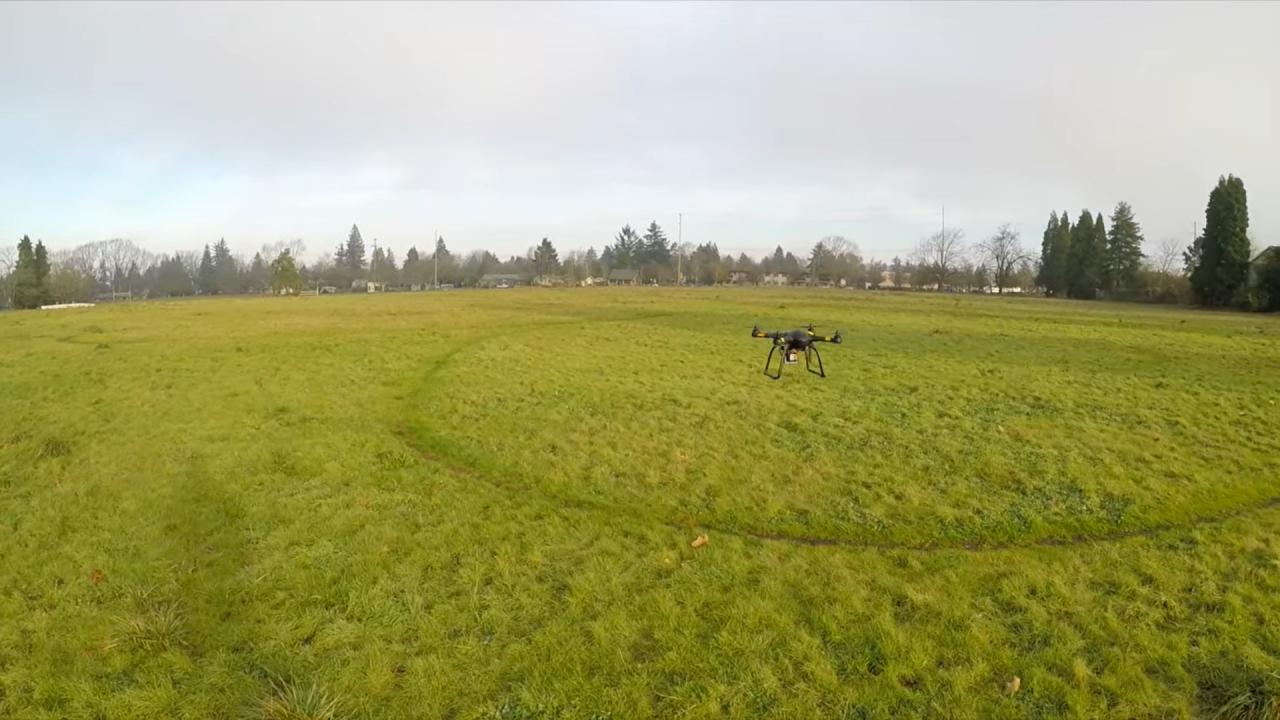Drone: (734, 318, 850, 388)
